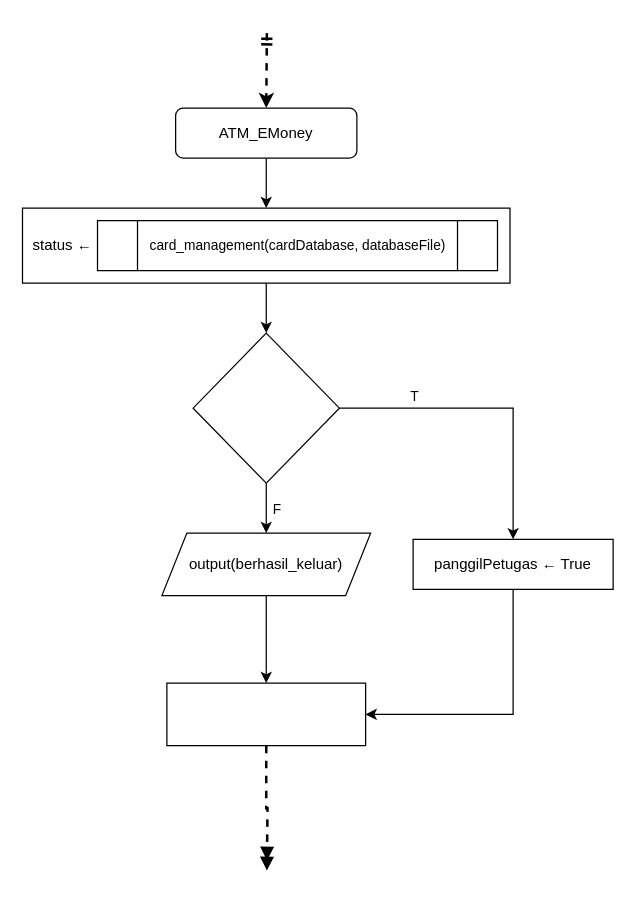
Some shapes in this 635 by 903 pixel diagram are drawn without their labels. The shapes that lost their labels are listed below. From the top down, each one's centre as x and y in pixels, then its label:
At pixel 265 407: "status ≠ STATUS_VALID".
At pixel 266 714: "ATM_EMoney ← False".
